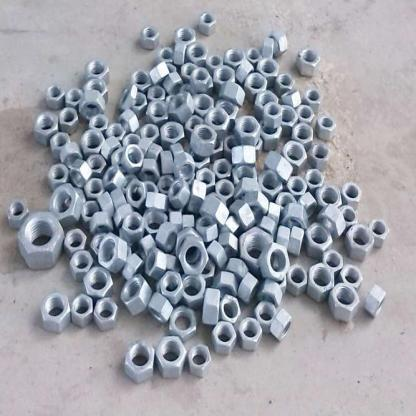FOD: (15, 208, 64, 270), (122, 338, 155, 384), (37, 290, 70, 335), (119, 272, 152, 316), (155, 333, 187, 377), (178, 235, 209, 276), (306, 260, 336, 302), (258, 242, 291, 280), (201, 285, 222, 328), (237, 316, 263, 350), (268, 307, 293, 341), (362, 284, 386, 319), (188, 342, 212, 377), (296, 47, 322, 78)
